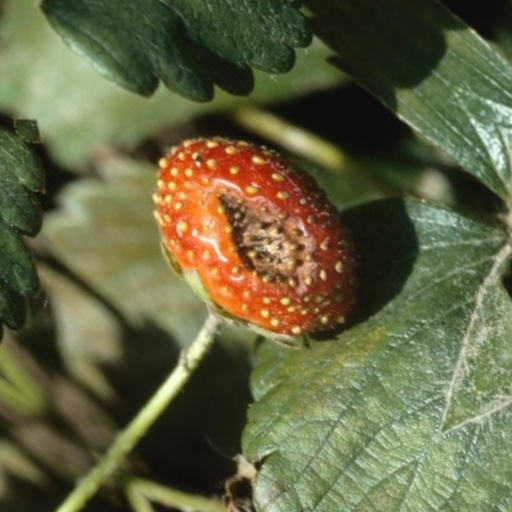Anthracnose Fruit Rot: (179, 237, 342, 314)
